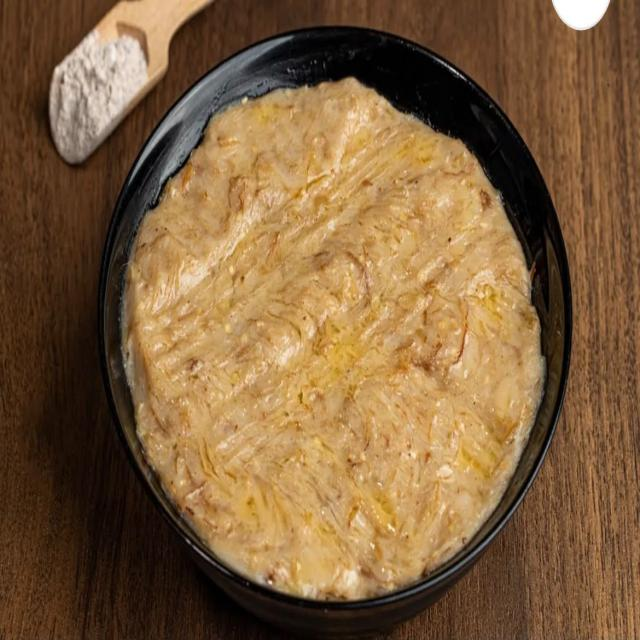Harees: (118, 73, 549, 603)
